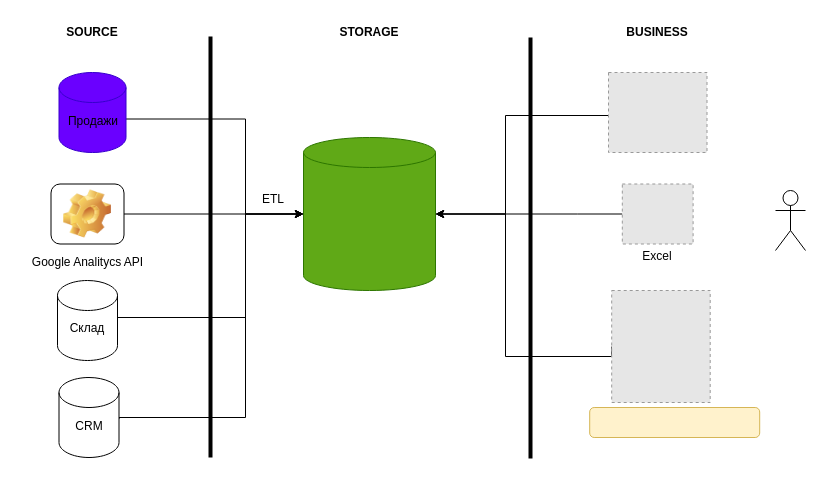
Some shapes in this 823 by 478 pixel diagram are drawn without their labels. Grey dashed boxes stand in for pictures. Here are the shapes that lost their labels. From the top down, the centre of each, then its label:
(x=369, y=213): Хранилище данных
(x=790, y=220): User
(x=674, y=422): Business Intelligence
